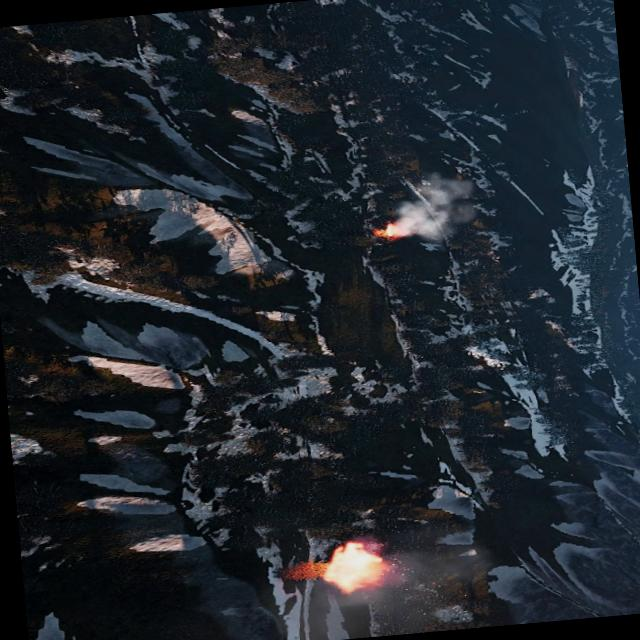fire: (318, 539, 388, 595), (372, 222, 404, 242)
smoke: (296, 524, 498, 640), (389, 170, 482, 250)
